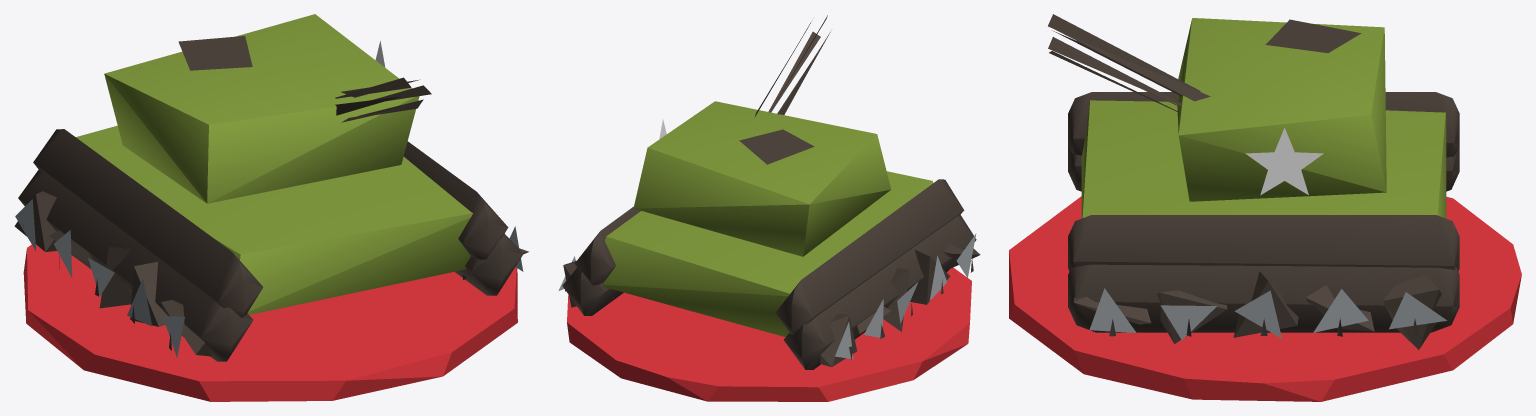
File: usa_anti_aircraft_lod1.glb
3 renders of one model, left to right at view 1: azimuth 30°, elevation 25°; view 2: azimuth 150°, elevation 25°; view 3: azimuth 270°, elevation 25°, orthographic. The views are drawn at different scales.
Visible parts, largest first — view 1: body_hull, base_pedestal; view 2: body_hull, base_pedestal; view 3: body_hull, base_pedestal.
Part boxes in pixels (<box>): body_hull: <box>14,14,528,361</box>; base_pedestal: <box>23,244,517,401</box>; body_hull: <box>558,15,980,369</box>; base_pedestal: <box>567,267,971,401</box>; body_hull: <box>1048,14,1459,349</box>; base_pedestal: <box>1009,196,1521,401</box>.
Bounding box in the file's own units: 0.7751 × 0.4929 × 0.7751.
